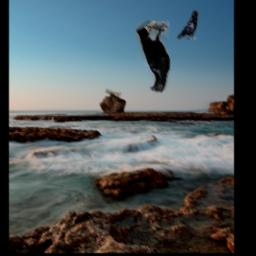Crow: (136, 21, 170, 92), (176, 10, 199, 40)
